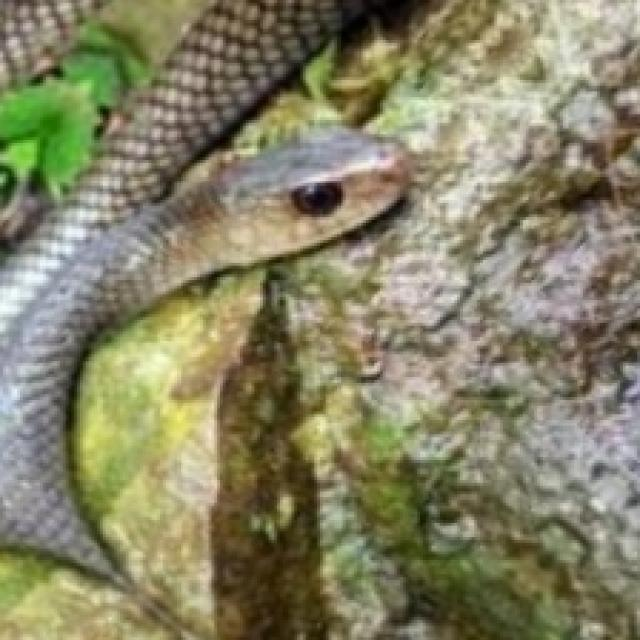smooth-scaled mountain rat snake: (0, 0, 406, 637)
